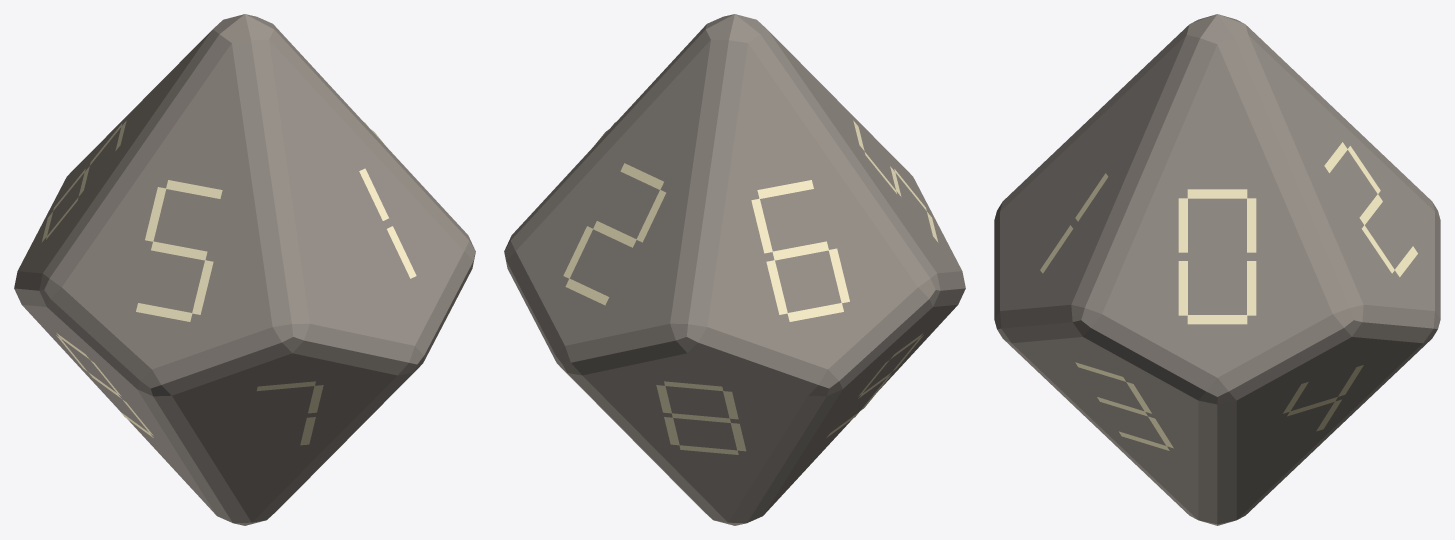
The picture shows the model from 3 angles, left to right: view 1: azimuth 30°, elevation 25°; view 2: azimuth 150°, elevation 25°; view 3: azimuth 270°, elevation 25°; orthographic projection.
Visible parts, largest first — view 1: RenderMesh, GlyphMesh; view 2: RenderMesh, GlyphMesh; view 3: RenderMesh, GlyphMesh.
Boxes of the visible parts, x1,y1,x2,y2 form: RenderMesh: [14, 14, 475, 525]; GlyphMesh: [41, 120, 416, 445]; RenderMesh: [504, 14, 965, 525]; GlyphMesh: [563, 120, 938, 454]; RenderMesh: [994, 14, 1440, 525]; GlyphMesh: [1040, 142, 1417, 450].
Size of what is drawn, in the model's own units: 0.0271 by 0.033 by 0.0261.
